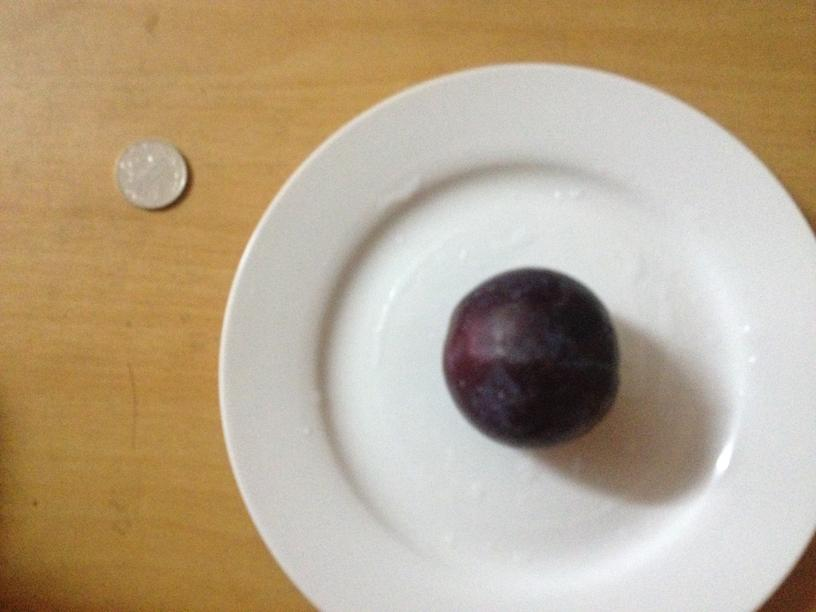coin: (119, 141, 190, 207)
plum: (442, 266, 623, 447)
